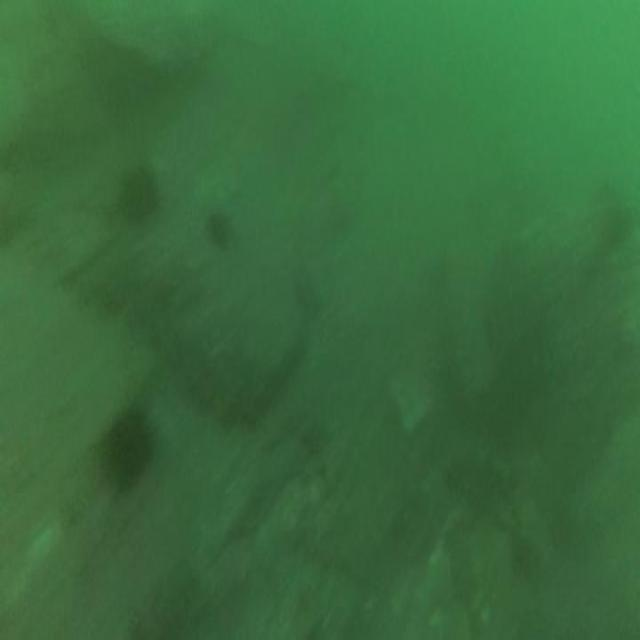echinus: (102, 414, 151, 480), (120, 172, 154, 223), (209, 214, 228, 246)
